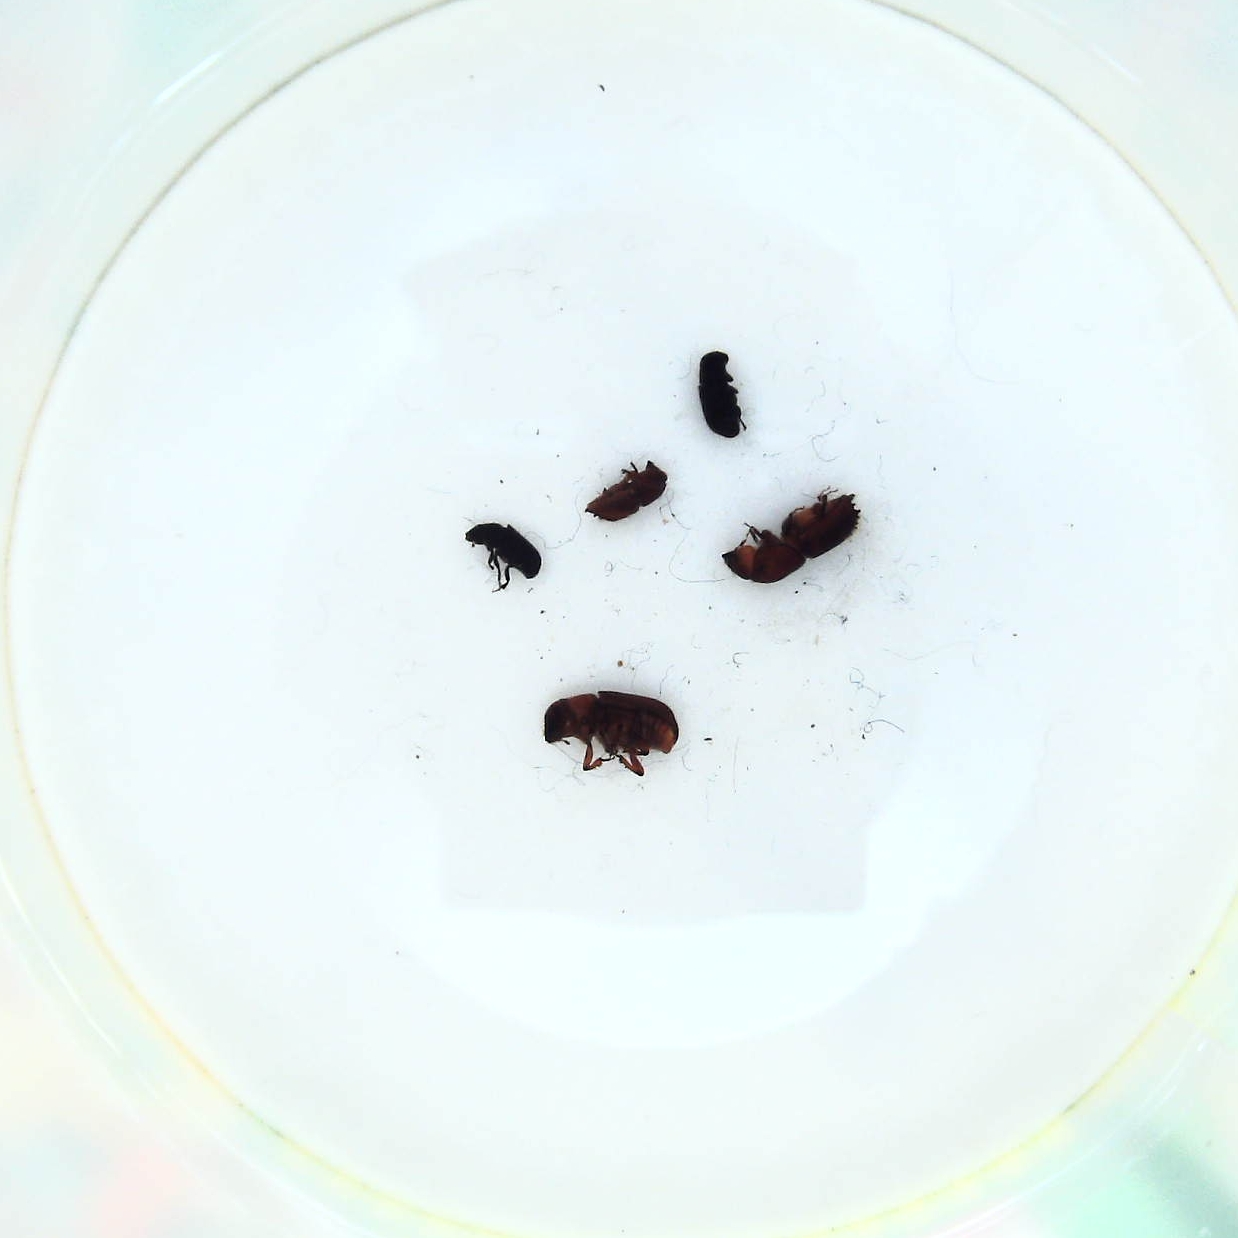Boerner: (718, 487, 864, 584)
Leconte: (539, 687, 688, 779)
armandi: (693, 345, 747, 443)
coleoptera: (461, 516, 544, 592)
linnaeus: (583, 460, 669, 526)
